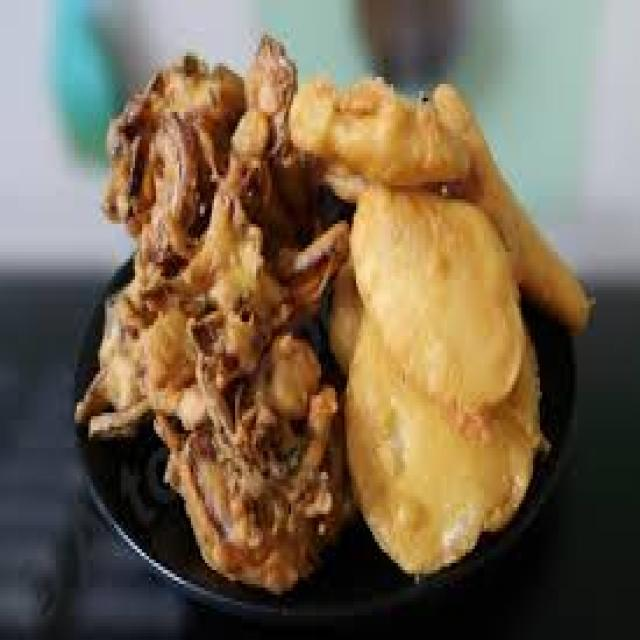BAJI: (292, 77, 607, 571), (87, 34, 357, 596)
